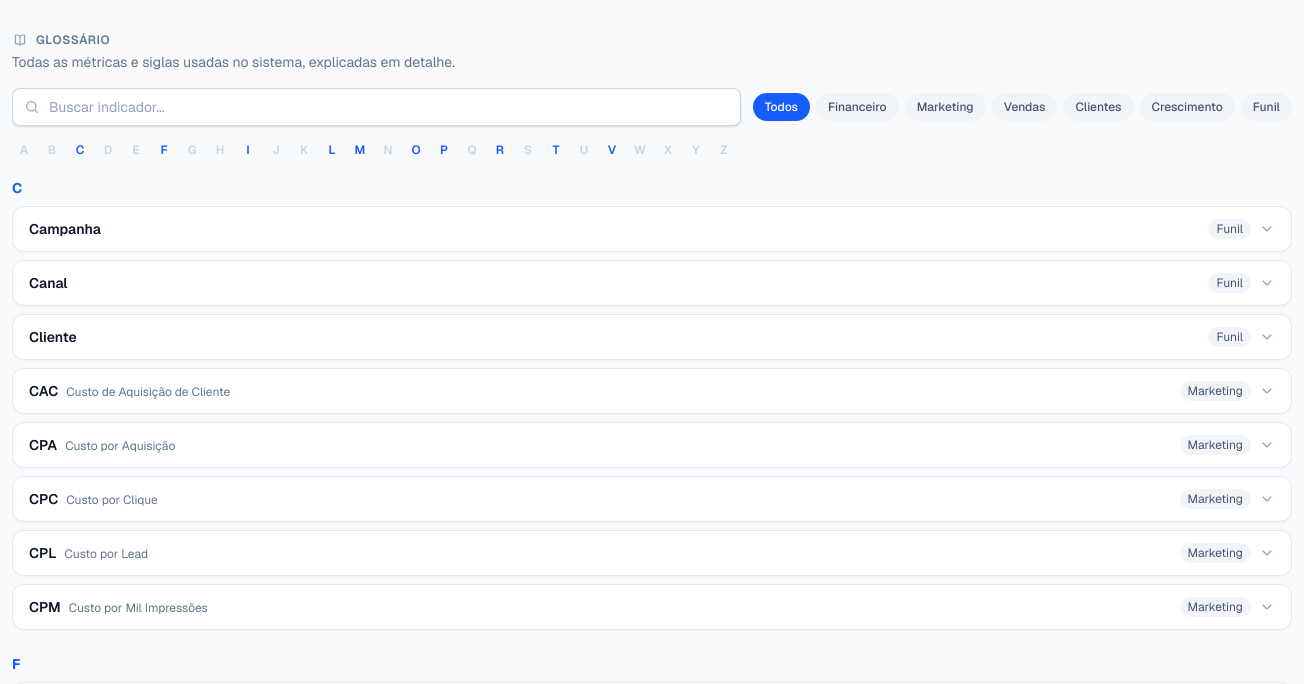
GlossaryPage › busca sem correspondencia mostra o empty state
The image size is (1304, 684).
Type "xxxxnaoexistexxxx" into the search field with placeholder "Buscar indicador...". click: (376, 107)
box: [12,88,741,126]
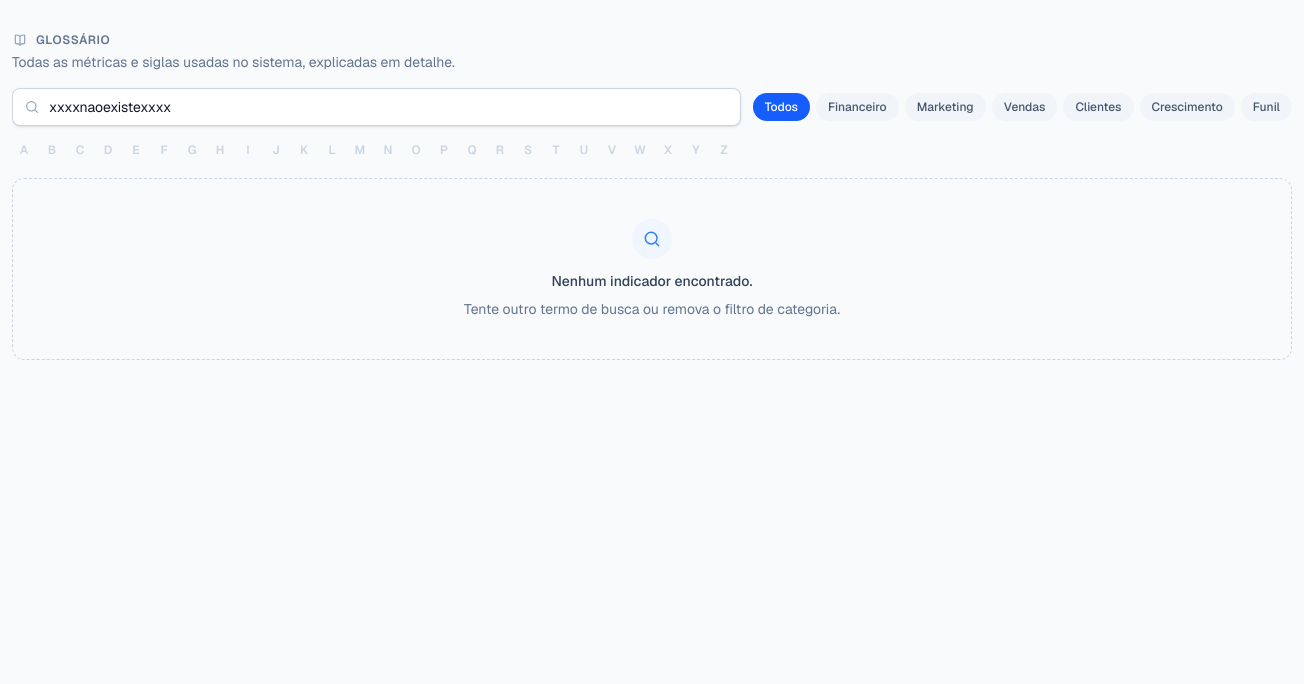
Now the text "Nenhum indicador encontrado." is shown, box [552,271,752,291]
